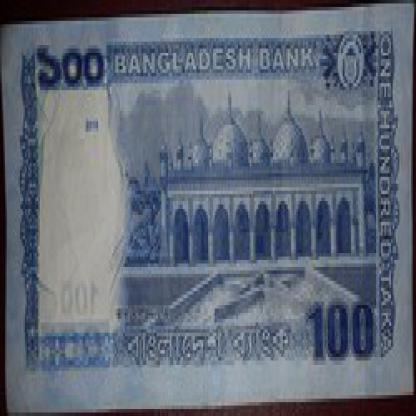one hundred taka: (306, 295, 379, 371), (35, 42, 105, 97)
